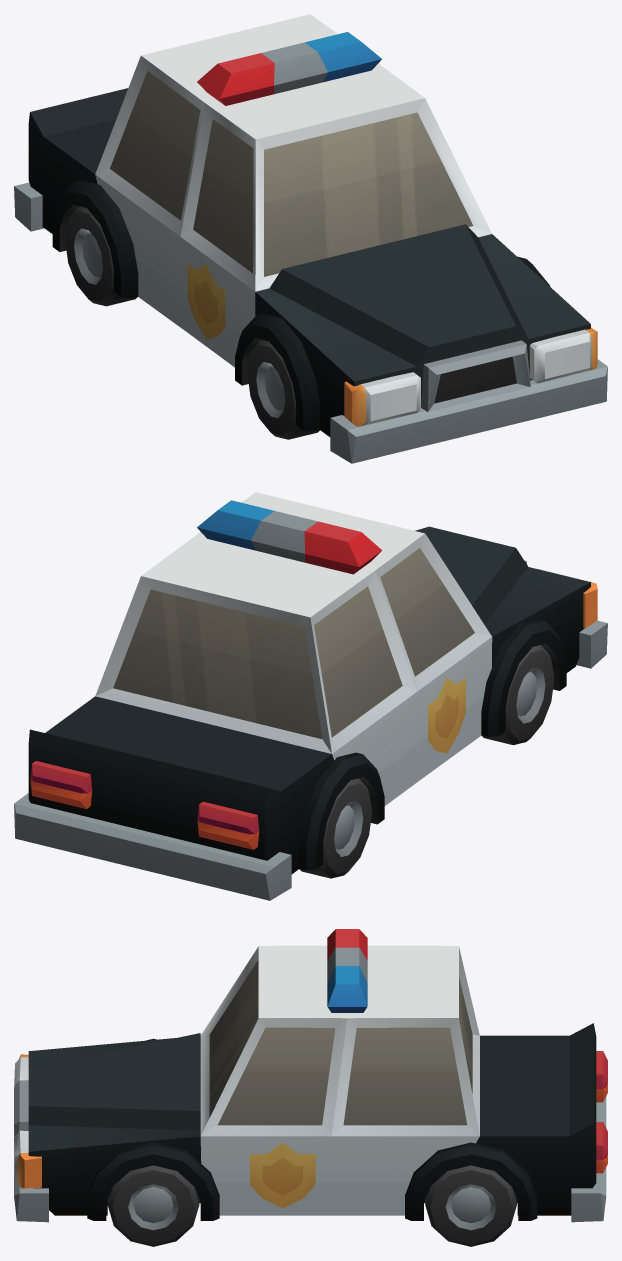
Rendered from police-car.glb.
3 renders of one model, top to bottom at view 1: azimuth 30°, elevation 25°; view 2: azimuth 150°, elevation 25°; view 3: azimuth 270°, elevation 25°, orthographic. The views are drawn at different scales.
Visible parts, largest first — view 1: Cube.1022, car_police_wheel_rear_right, car_police_wheel_front_right; view 2: Cube.1022, car_police_wheel_front_right, car_police_wheel_rear_right; view 3: Cube.1022, car_police_wheel_front_left, car_police_wheel_rear_left.
Part boxes in pixels (x1,y1,x2,y2): Cube.1022: (14,14,607,463); car_police_wheel_rear_right: (65,206,137,306); car_police_wheel_front_right: (247,339,319,439); Cube.1022: (14,492,607,900); car_police_wheel_front_right: (482,645,554,745); car_police_wheel_rear_right: (299,778,372,878); Cube.1022: (14,929,607,1222); car_police_wheel_front_left: (107,1165,199,1246); car_police_wheel_rear_left: (425,1165,516,1246).
Size of the model in its own units: 2.14 by 2.11 by 4.8.
1 material, 1 textured.
